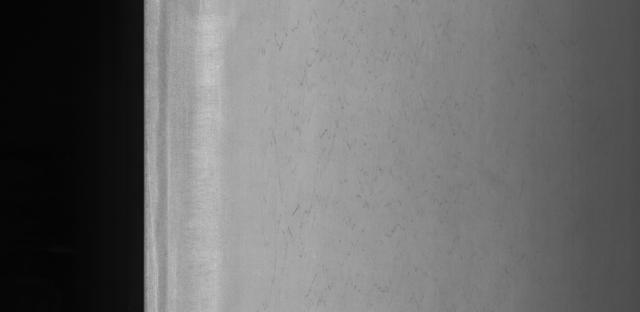silk_spot: (272, 21, 512, 269)
